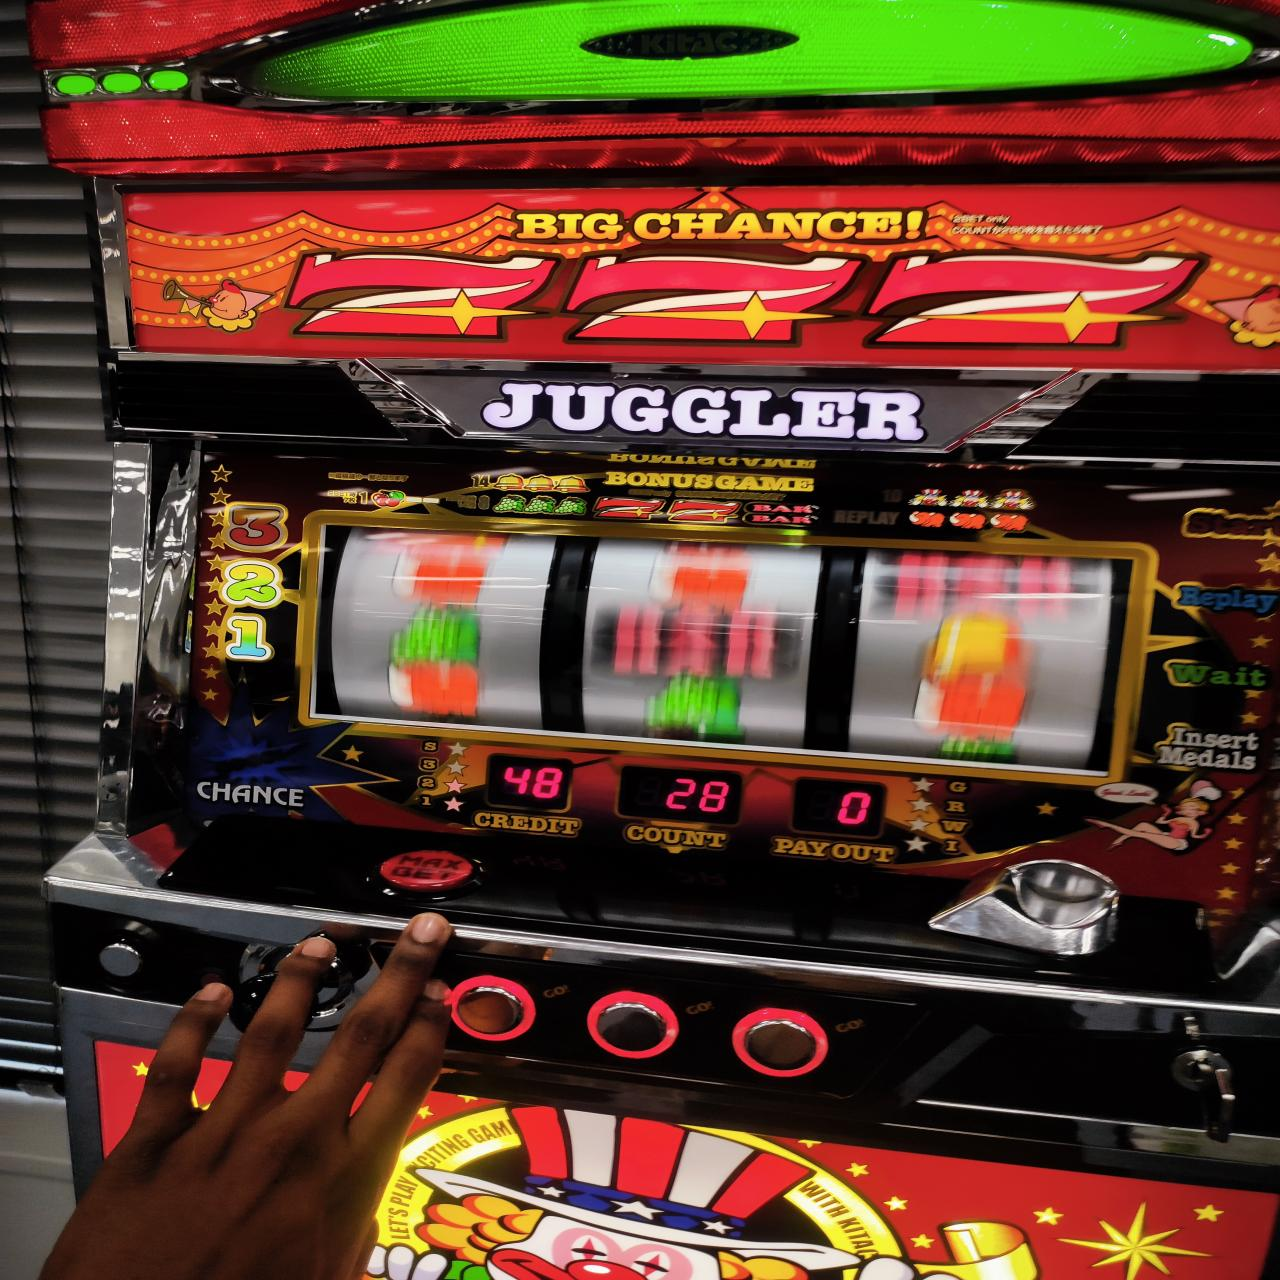rhino: (309, 516, 1116, 767)
